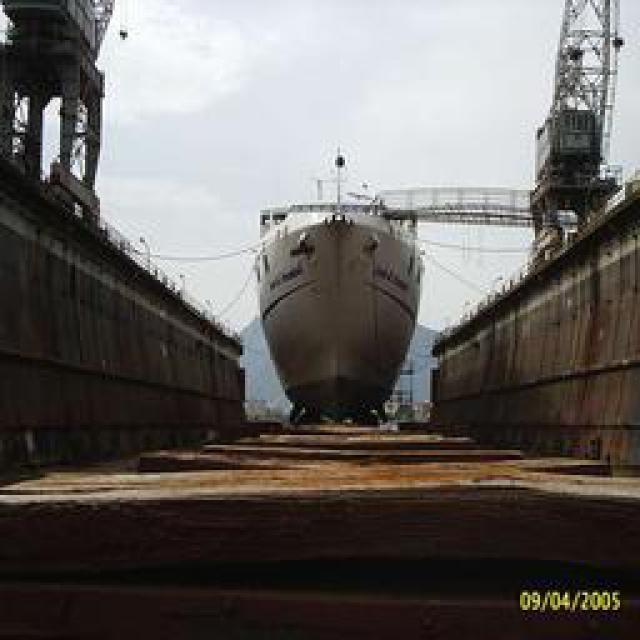Ship: (250, 184, 423, 419)
